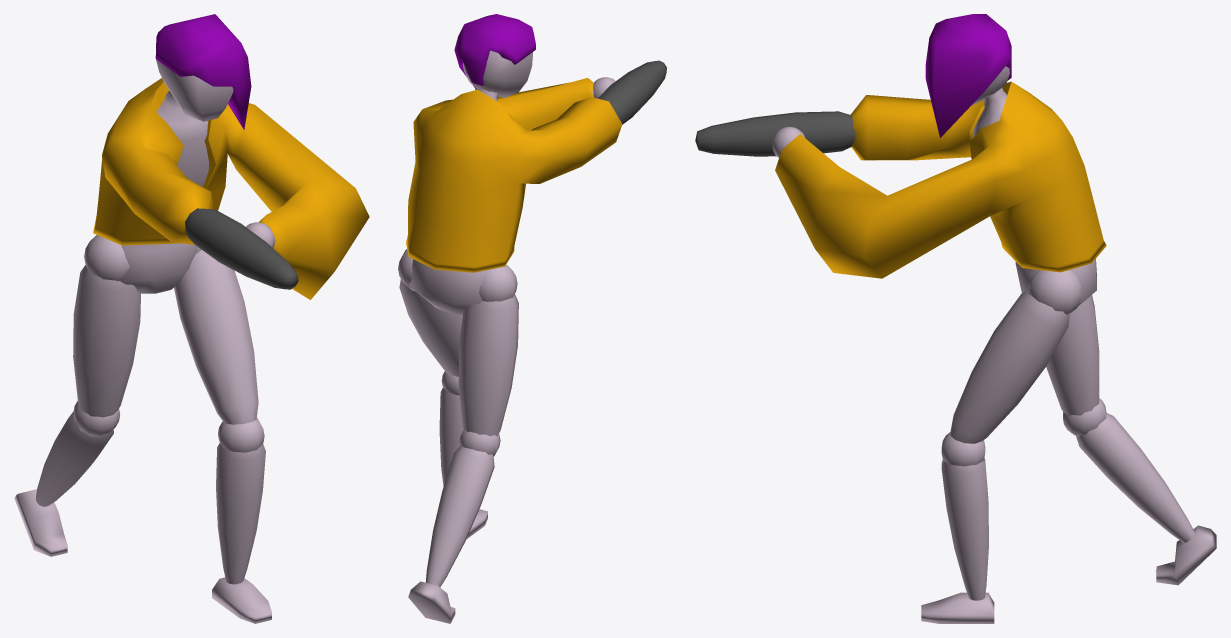
Rendered from SM_Character_Bomber_BO.fbx.
The picture shows the model from 3 angles, left to right: view 1: azimuth 30°, elevation 25°; view 2: azimuth 150°, elevation 25°; view 3: azimuth 270°, elevation 25°; orthographic projection. The views are drawn at different scales.
Parts seen in each view (by area): view 1: pPlane2; view 2: pPlane2; view 3: pPlane2.
Part boxes in pixels (box(x1,y1,x2,y2)): pPlane2: box(14, 14, 369, 623); pPlane2: box(398, 14, 666, 623); pPlane2: box(695, 14, 1216, 623).
Size of the model in its own units: 64.09 by 175 by 143.
